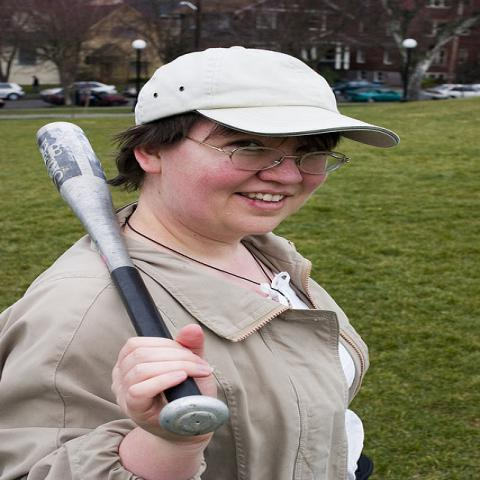car: (38, 82, 118, 102), (51, 88, 126, 106), (330, 79, 389, 97), (419, 84, 479, 101), (344, 86, 404, 102), (0, 82, 25, 101), (123, 87, 136, 96), (0, 98, 8, 109)
